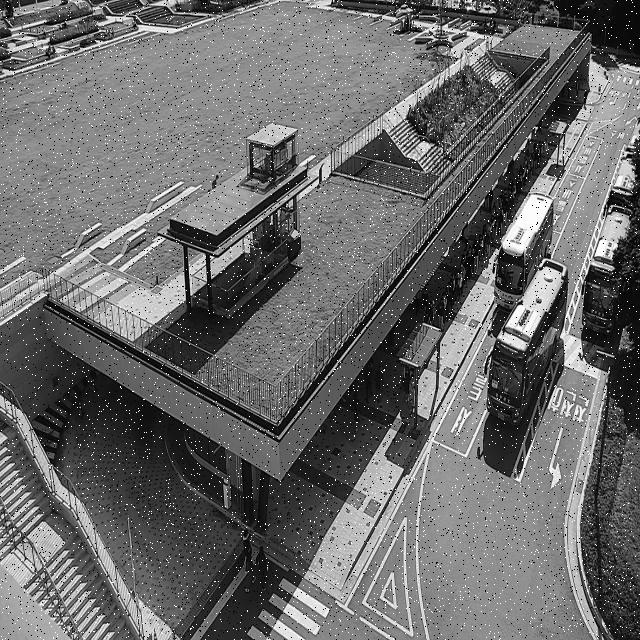queue: (413, 135, 550, 432)
